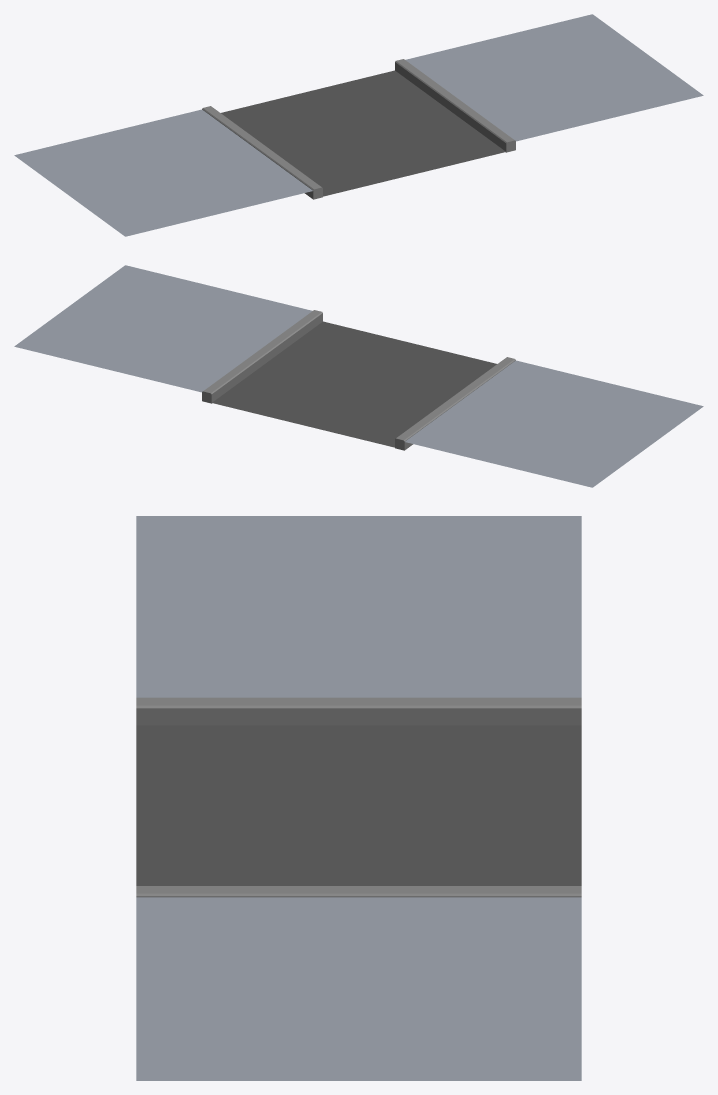
Rendered from Road_10.fbx.
3 views of the same model, one above another, from view 1: azimuth 30°, elevation 25°; view 2: azimuth 150°, elevation 25°; view 3: azimuth 270°, elevation 25° (orthographic). The views are drawn at different scales.
Parts seen in each view (by area): view 1: Road_10; view 2: Road_10; view 3: Road_10.
Boxes of the visible parts, x1=… form: Road_10: x1=14, y1=14, x2=703, y2=236; Road_10: x1=14, y1=265, x2=703, y2=487; Road_10: x1=136, y1=516, x2=581, y2=1080.
Size of the model in its own units: 900 by 15 by 300.
